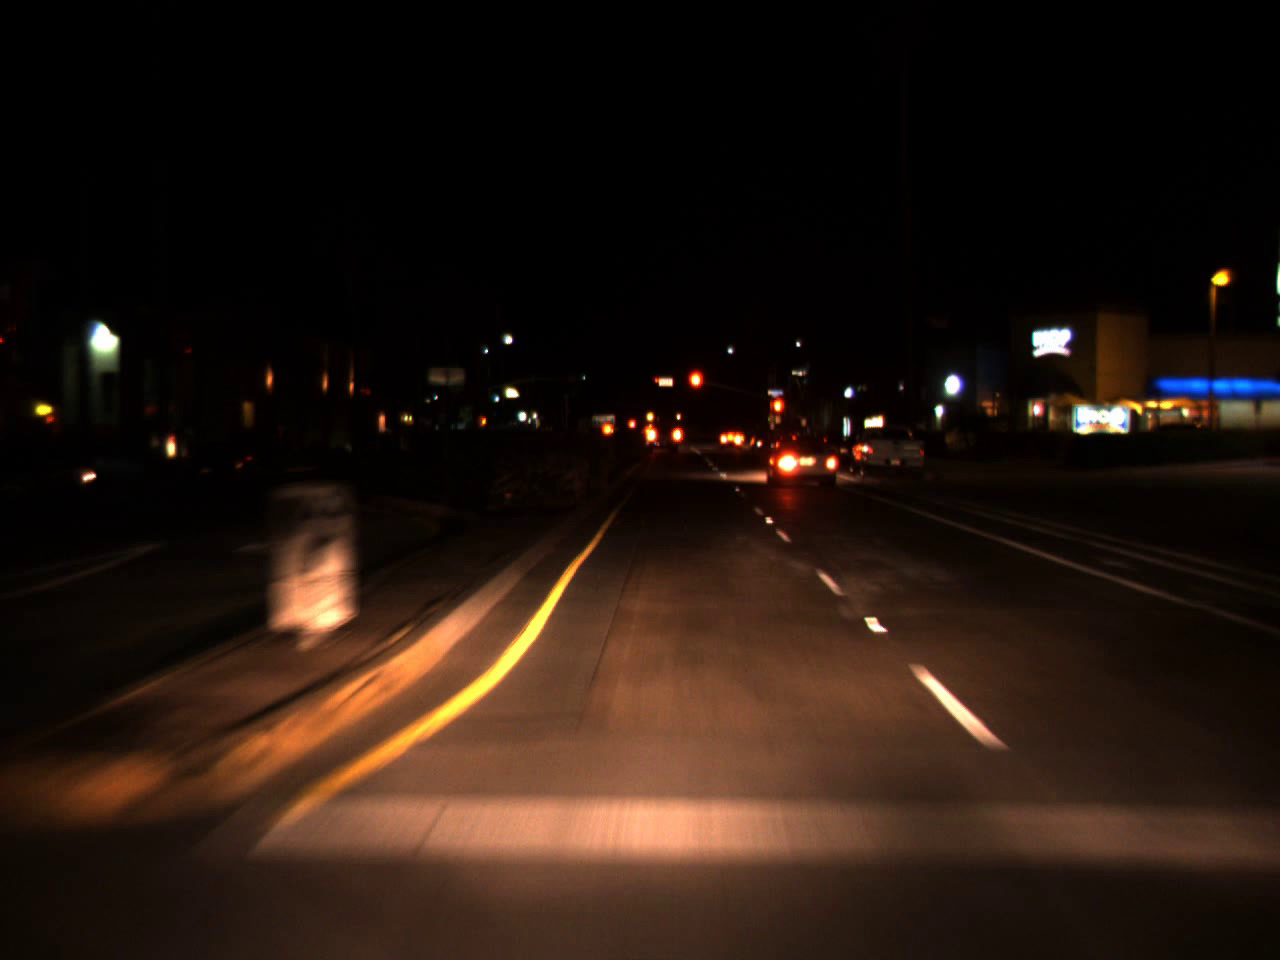stop: (685, 368, 703, 408), (767, 394, 786, 431), (653, 377, 660, 387)
